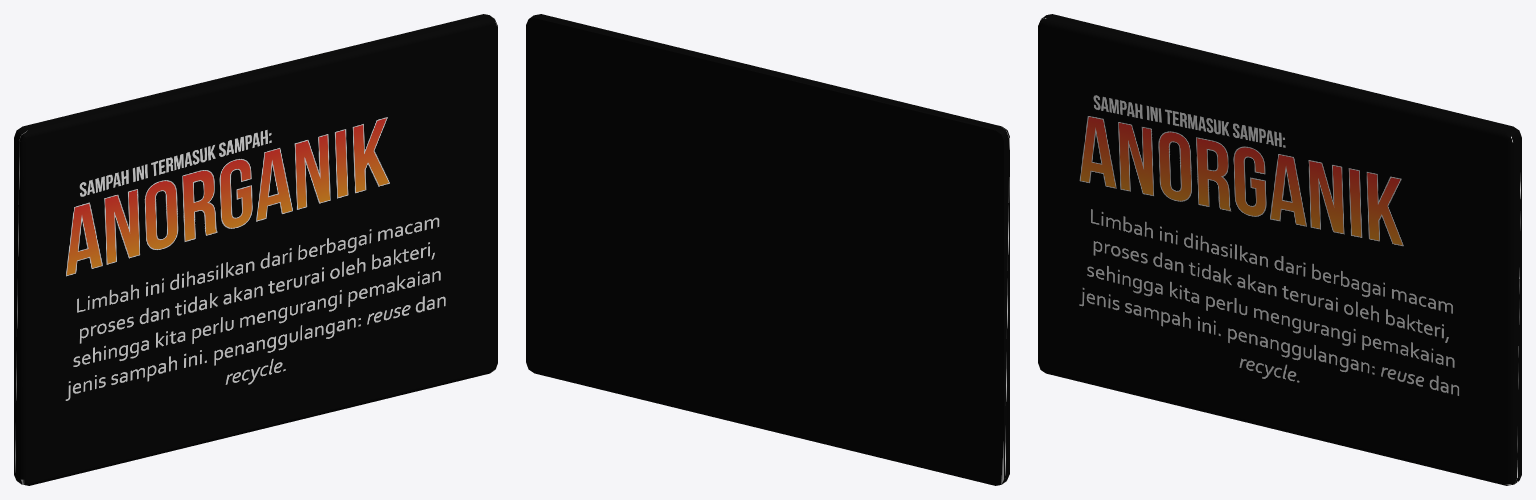
The model's file is penjelasannonorganik.fbx.
3 renders of one model, left to right at view 1: azimuth 30°, elevation 25°; view 2: azimuth 150°, elevation 25°; view 3: azimuth 330°, elevation 25°, orthographic.
Parts seen in each view (by area): view 1: pCube6; view 2: pCube6; view 3: pCube6.
Part boxes in pixels (<box>): pCube6: <box>14,14,497,485</box>; pCube6: <box>526,14,1009,485</box>; pCube6: <box>1038,14,1521,485</box>.
Size of the model in its own units: 5.47 by 3.89 by 0.159.
1 material, 1 textured.
